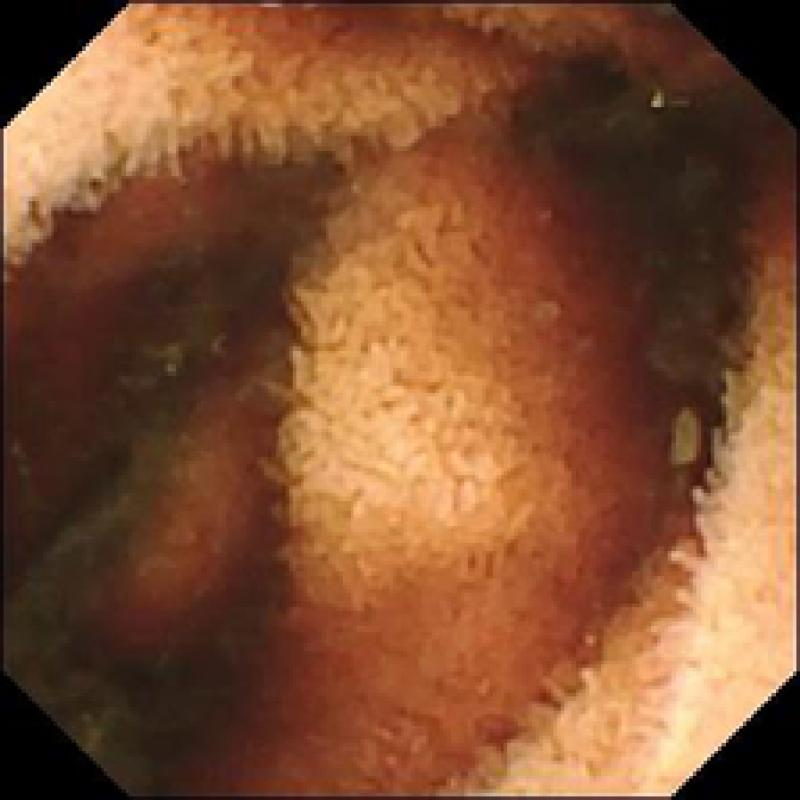bleeding: (110, 386, 254, 664)
